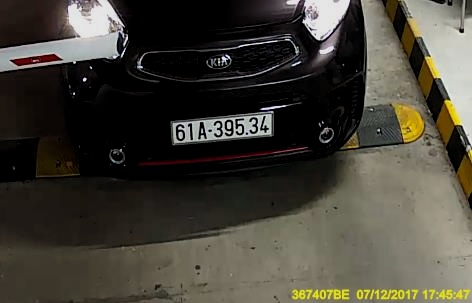plate: (163, 107, 280, 142)
